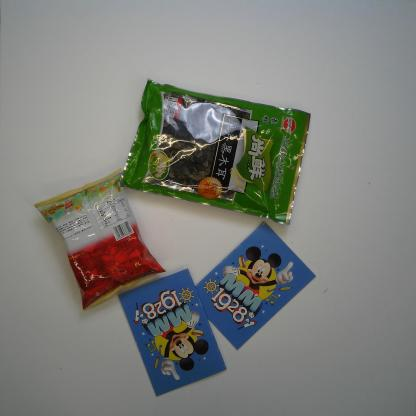Dried Food: (117, 77, 312, 228)
Puffed Food: (31, 167, 167, 314)
Stationery: (195, 221, 317, 351), (118, 267, 228, 398)
